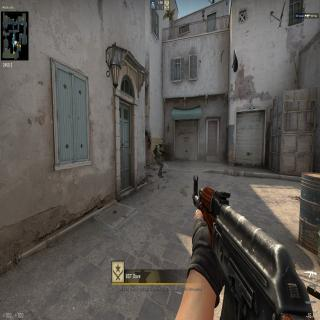CT-Head: (158, 138, 164, 148)
